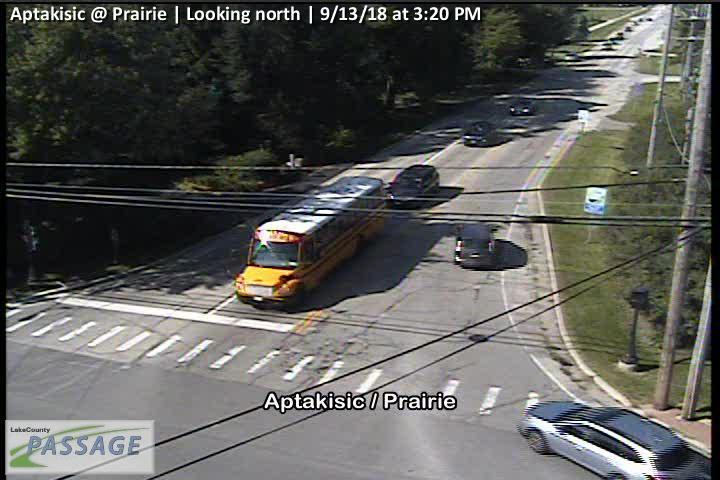Bus: (233, 174, 387, 308)
SUV: (385, 164, 440, 207), (454, 223, 495, 268)
Sedan: (519, 398, 702, 480), (463, 122, 497, 147), (510, 99, 535, 114)
